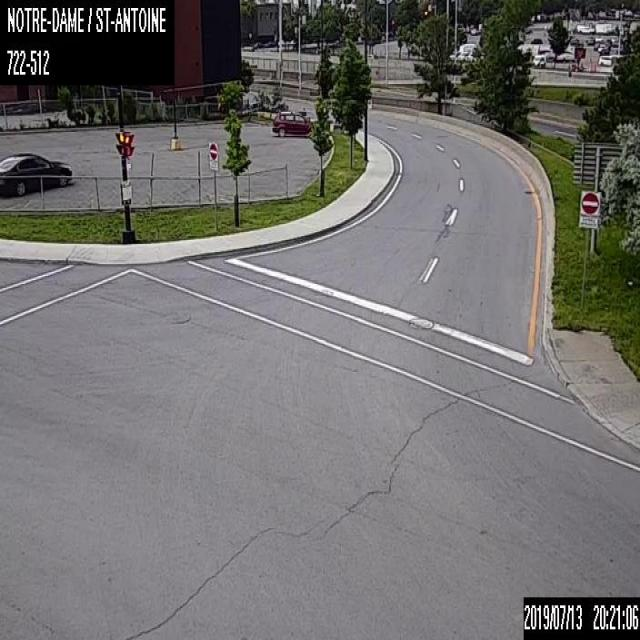vehicle: (0, 151, 73, 197), (272, 108, 318, 136)
